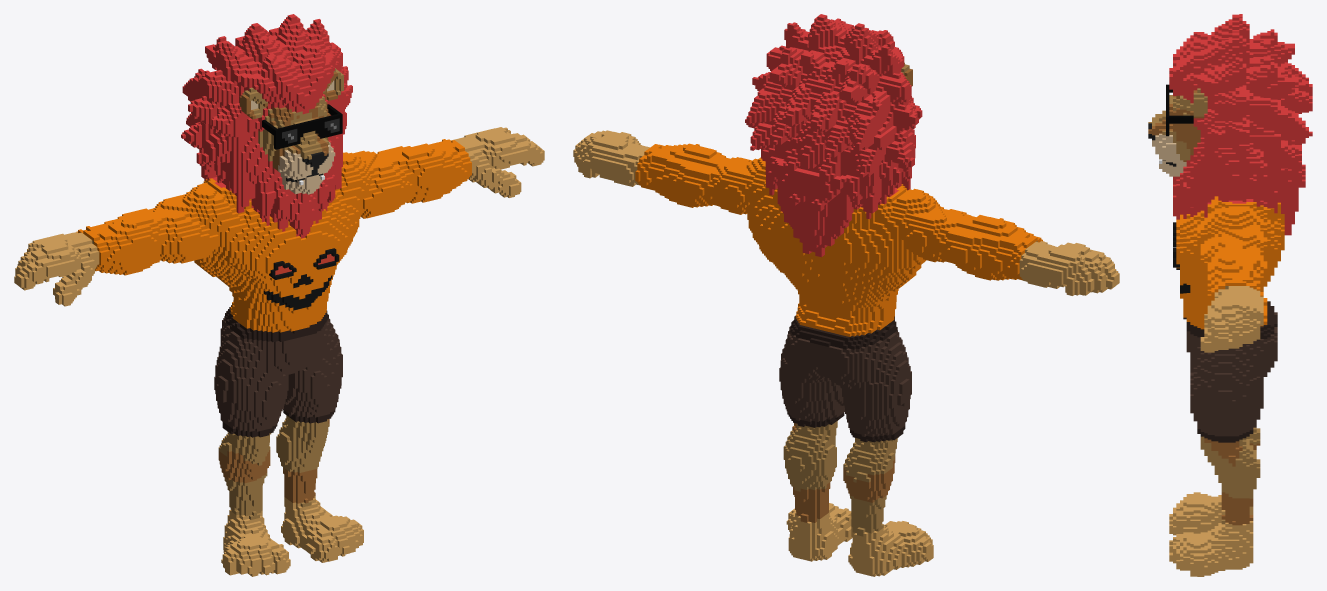
Rendered from 967-CXPV_yRq.glb.
3 views of the same model, side by side, from view 1: azimuth 30°, elevation 25°; view 2: azimuth 150°, elevation 25°; view 3: azimuth 270°, elevation 25° (orthographic). The views are drawn at different scales.
Parts seen in each view (by area): view 1: standard; view 2: standard; view 3: standard.
Part boxes in pixels (x1,y1,x2,y2): standard: [14, 14, 544, 576]; standard: [573, 14, 1119, 576]; standard: [1148, 14, 1312, 576].
Size of the model in its own units: 17.2 by 16.5 by 4.7.
Materials: 5 (5 with a texture image).
